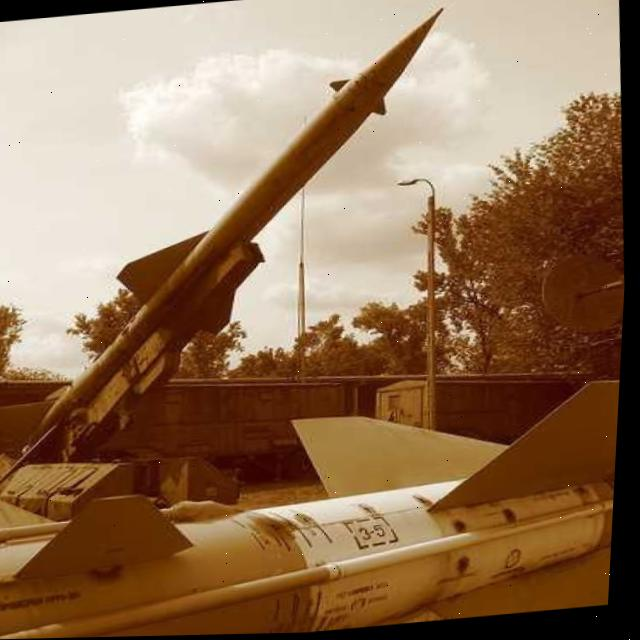missile: (5, 2, 474, 444)
